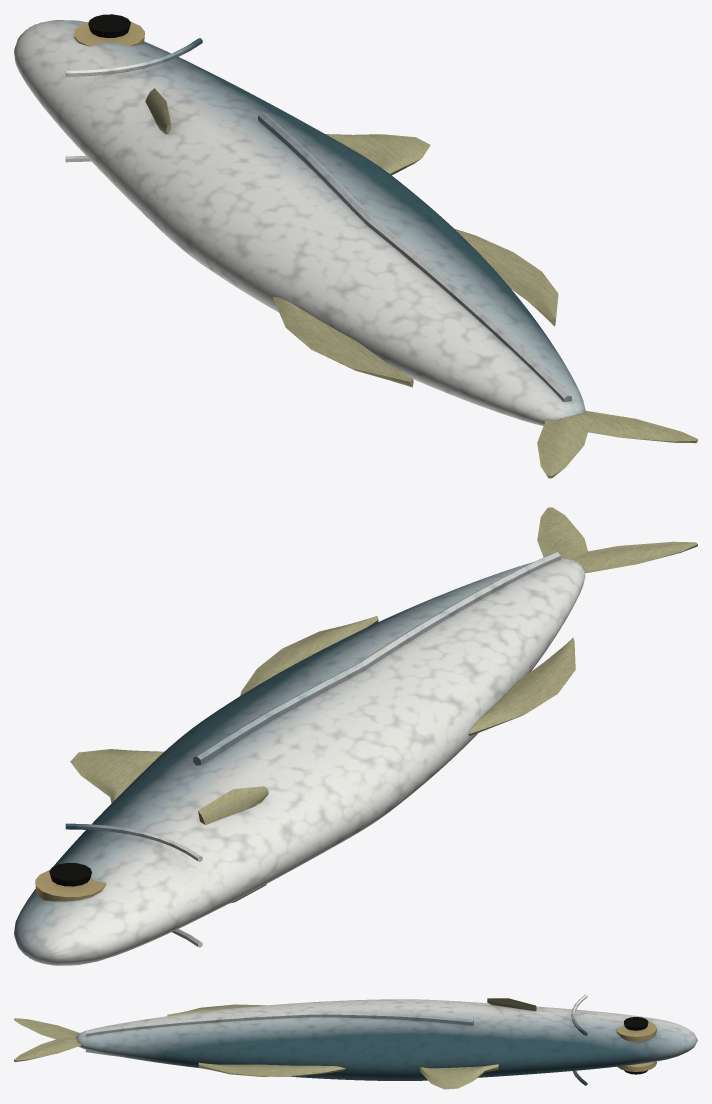
The model's file is fish_stavrida.glb.
3 views of the same model, one above another, from view 1: azimuth 30°, elevation 25°; view 2: azimuth 150°, elevation 25°; view 3: azimuth 270°, elevation 25° (orthographic). The views are drawn at different scales.
Parts seen in each view (by area): view 1: fish_stavrida; view 2: fish_stavrida; view 3: fish_stavrida.
Part boxes in pixels (left/top/right/bottom): fish_stavrida: left=14, top=14, right=697, bottom=478; fish_stavrida: left=14, top=507, right=697, bottom=965; fish_stavrida: left=14, top=994, right=697, bottom=1089.
Bounding box in the file's own units: 0.0773 × 0.0277 × 0.2627.
1 material, 1 textured.
